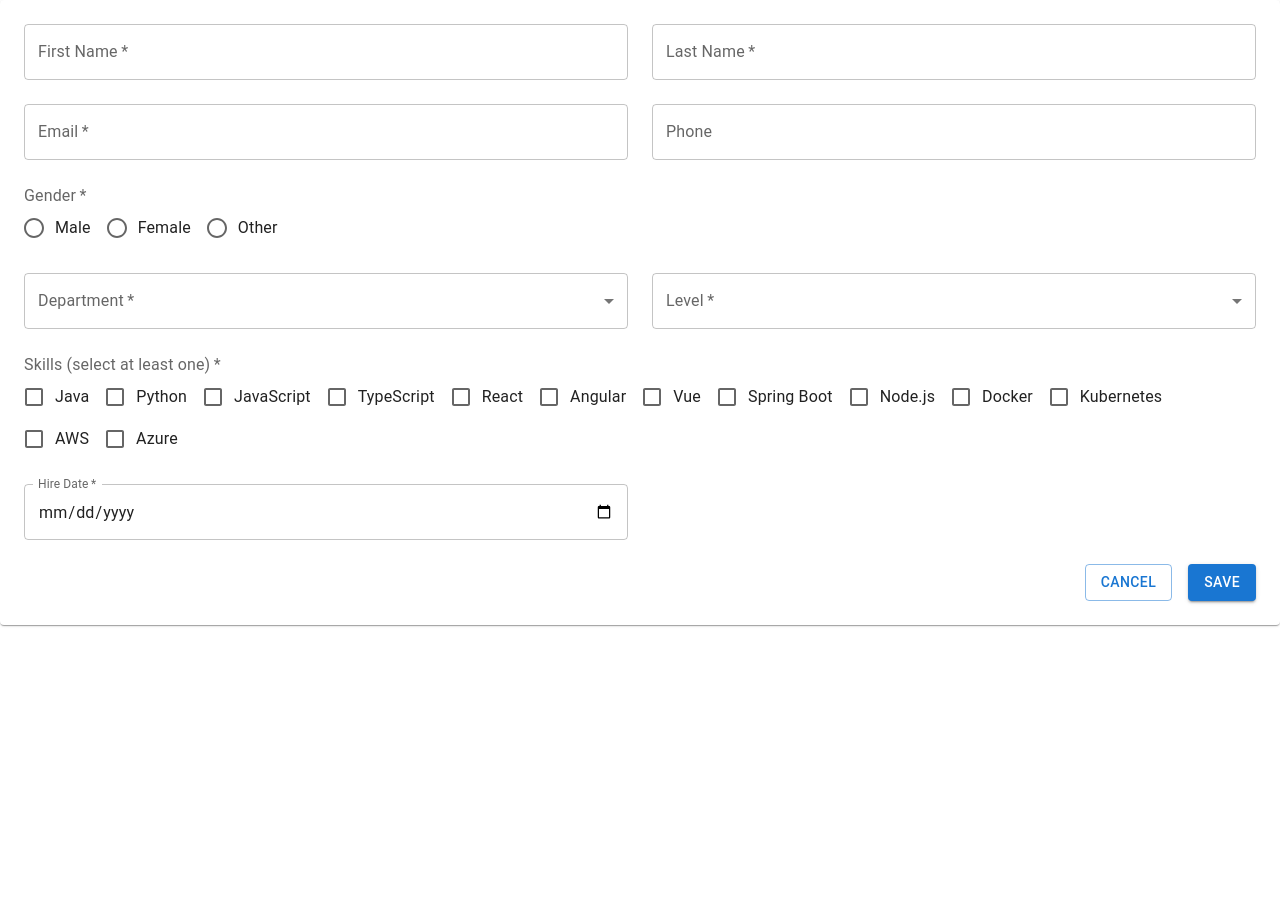
Test: EmployeeForm - Property-Based Validation Tests › Property 10: UI validation provides feedback › should prevent form submission when validation errors exist
The image size is (1280, 900).
Note: Fill form with some invalid data
Type "J" into the field labelled "First Name *".
click(326, 52); type("J")  # box top-left (24, 24), bottom-right (628, 80)
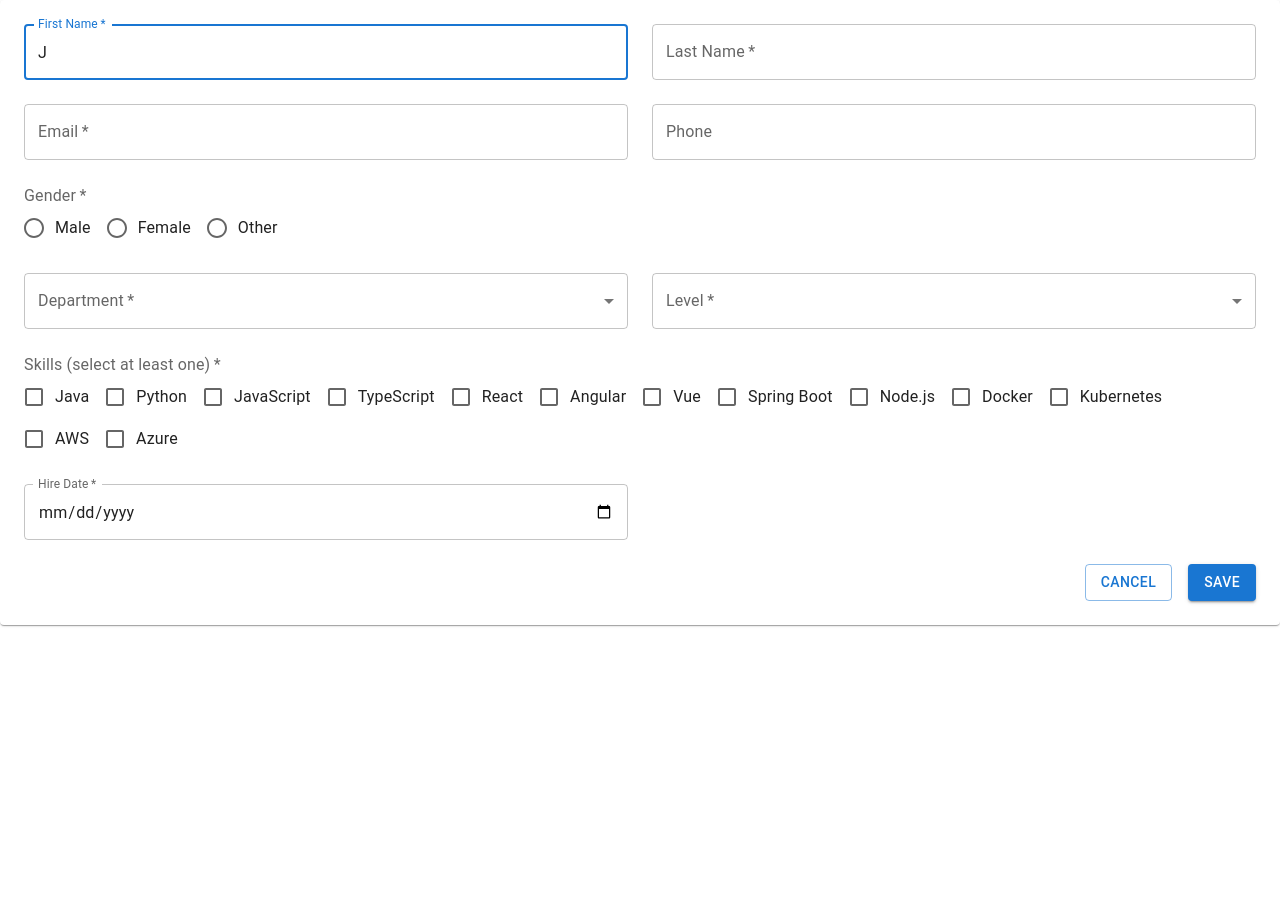
Type "Doe" into the field labelled "Last Name *".
click(954, 52); type("Doe")  # box top-left (652, 24), bottom-right (1256, 80)
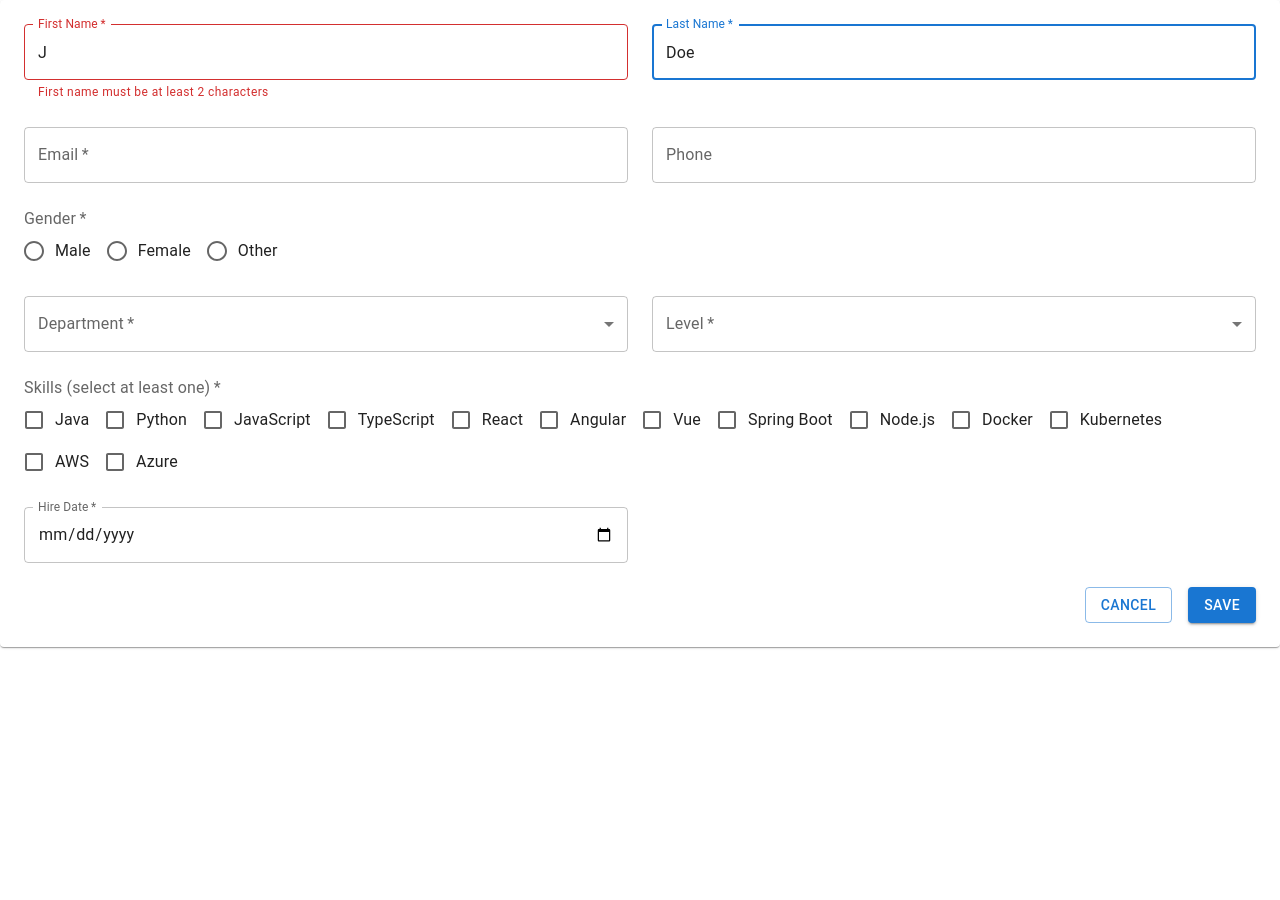
Type "invalid-email" into the field labelled "Email *".
click(326, 155); type("invalid-email")  # box top-left (24, 127), bottom-right (628, 183)
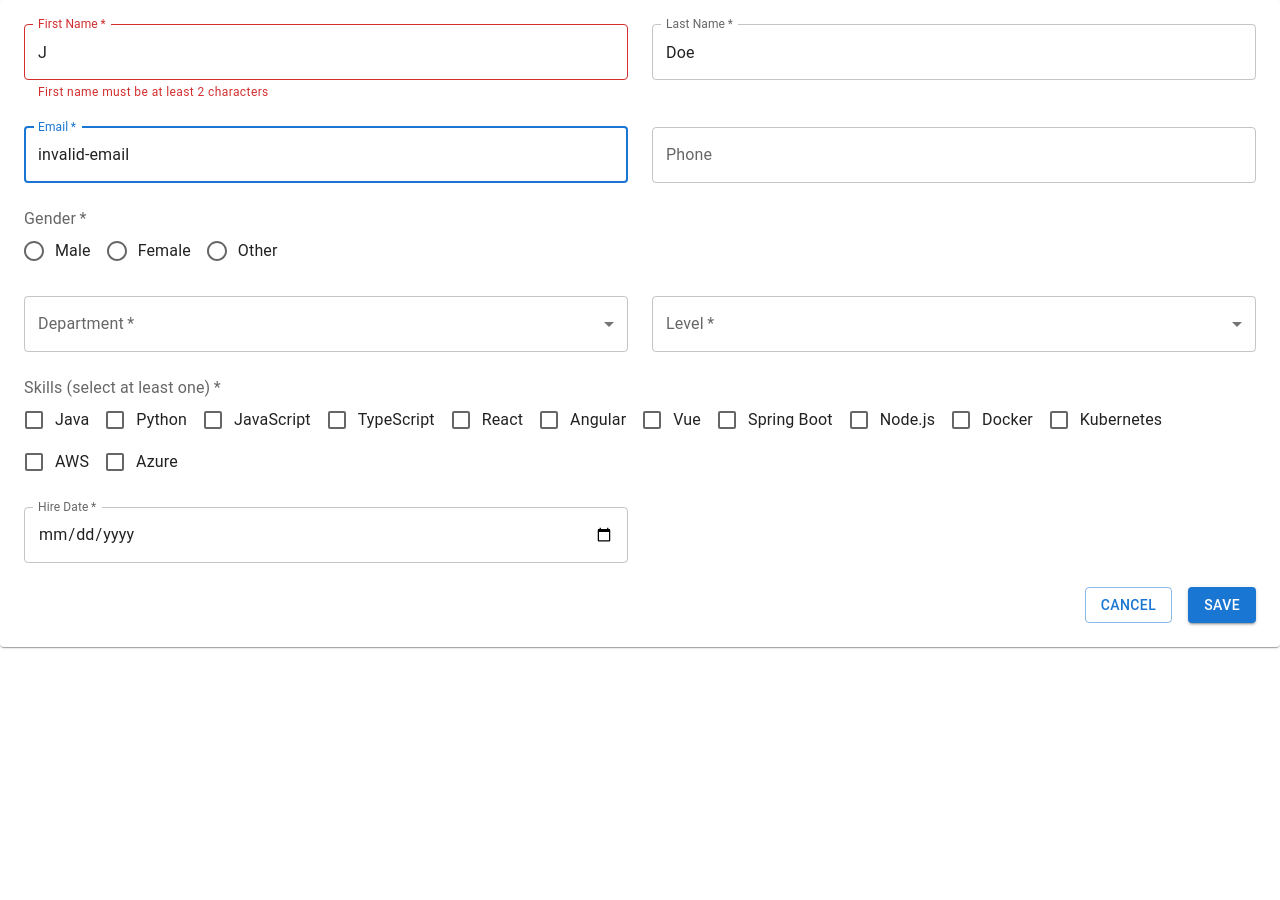
Note: Try to submit
Click the button "Save".
click(1222, 605)  # box top-left (1188, 587), bottom-right (1256, 623)
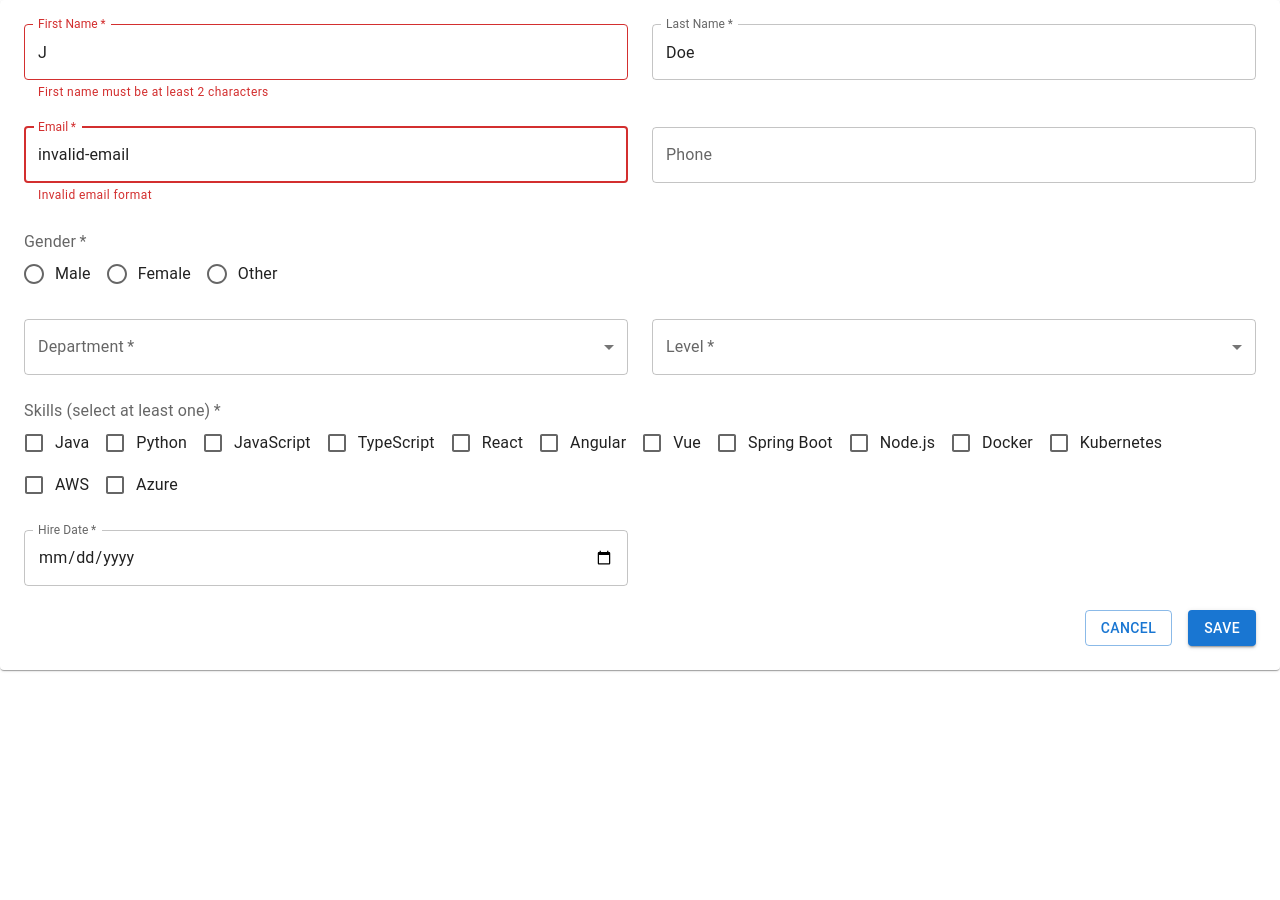
Now the text "First name must be at least 2 characters" is shown, box top-left (38, 85), bottom-right (269, 99)
Now the text "Invalid email format" is shown, box top-left (38, 188), bottom-right (152, 202)
